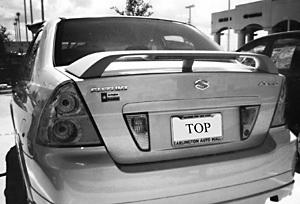car: (9, 16, 299, 204)
